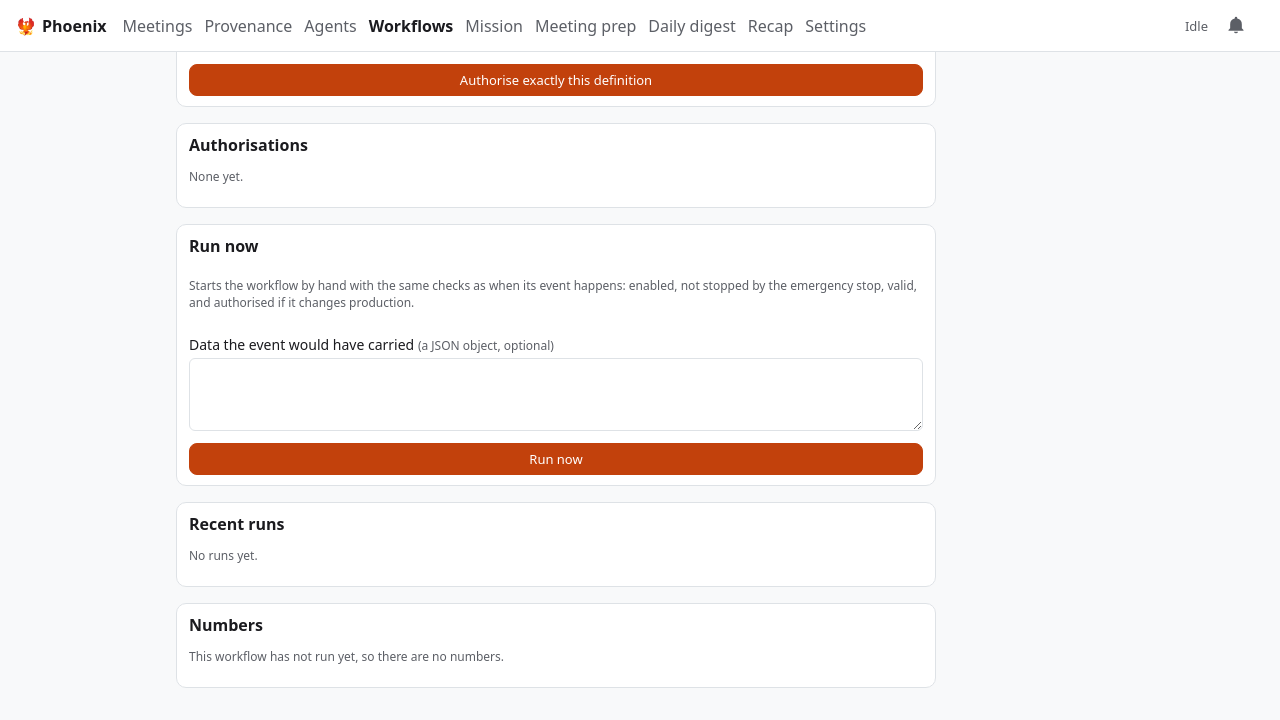
Test: Workflow detail › run now › a refused start (403 RUN_REFUSED) shows the reason and links to the refused run
(page scrolled)
Step 1. Click the button "Run now" → x=556, y=459, box [189,443,923,475]
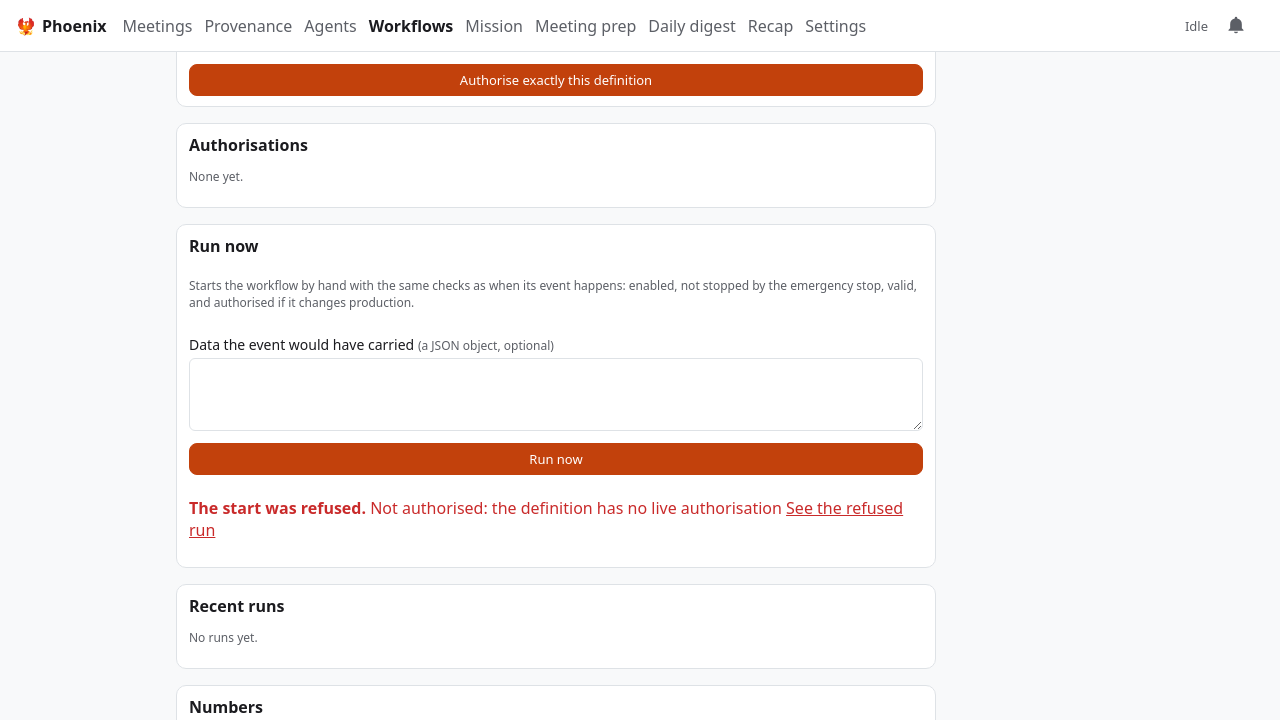
Check: the message shows "The start was refused.", box [189,497,366,519]
Check: the message shows "Not authorised: the definition has no live authorisation", box [370,497,782,519]
